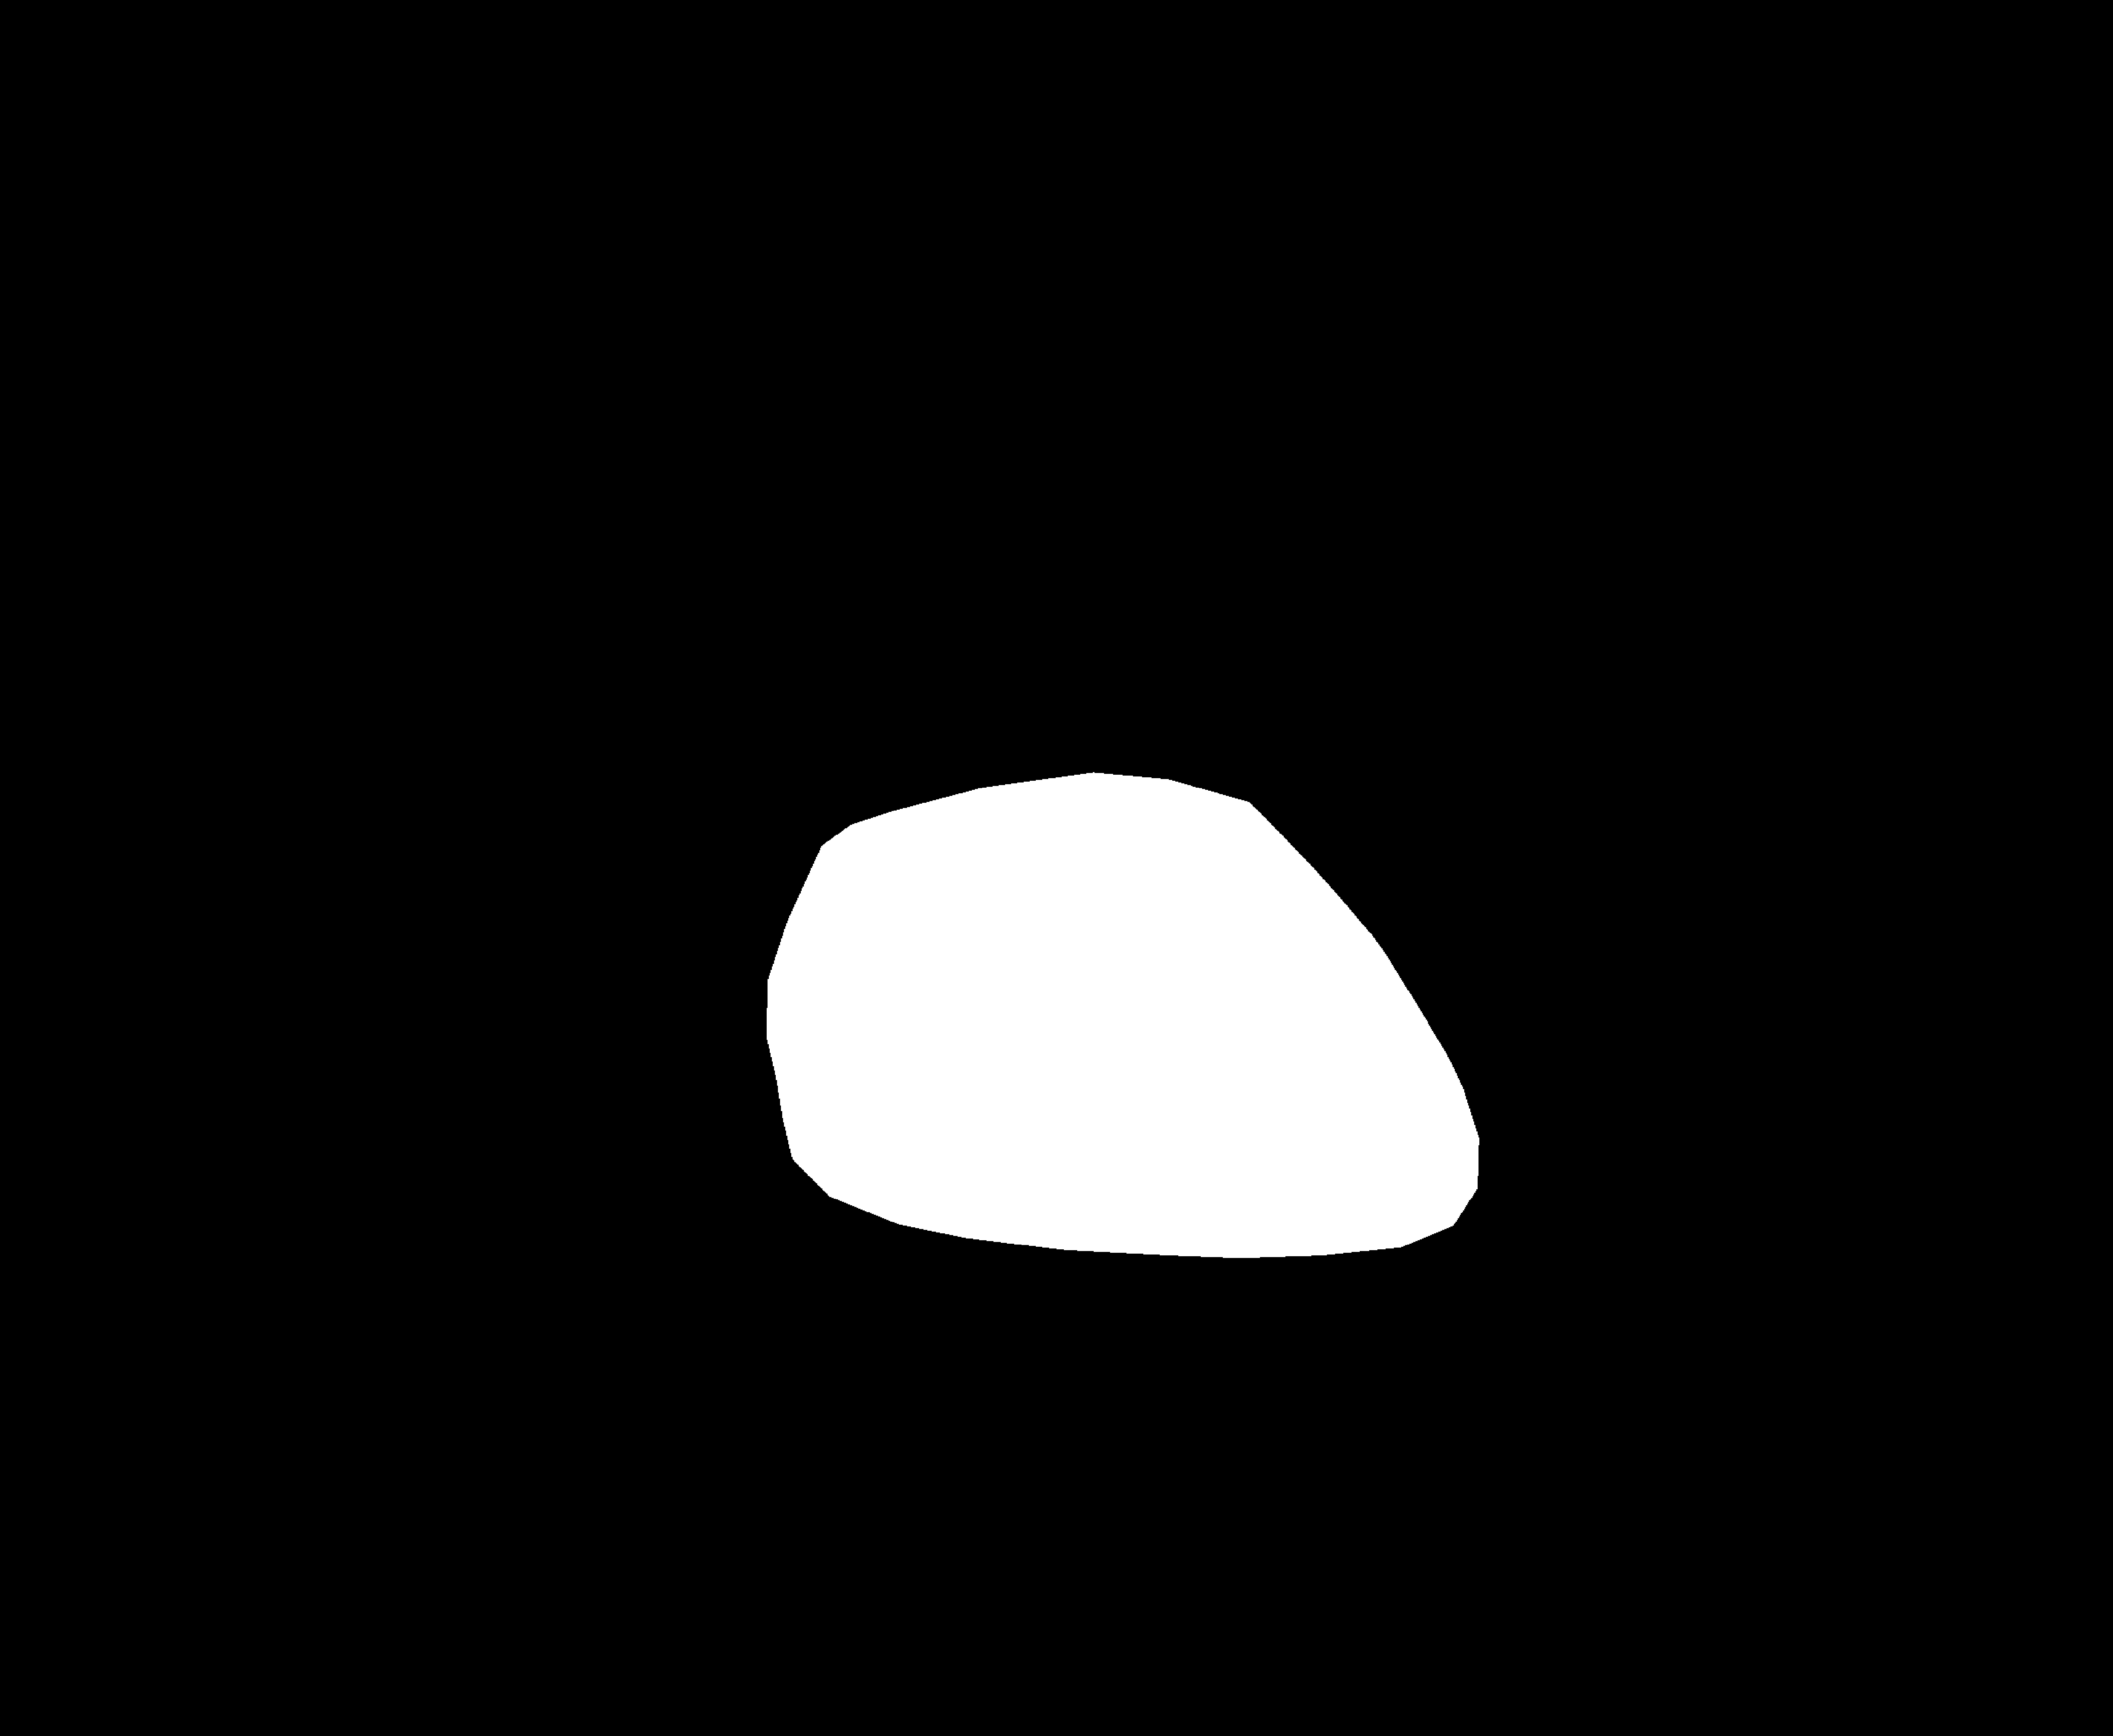heart: (765, 800, 1462, 1229)
left_lung: (302, 256, 930, 1362)
right_lung: (1049, 221, 1764, 1387)
